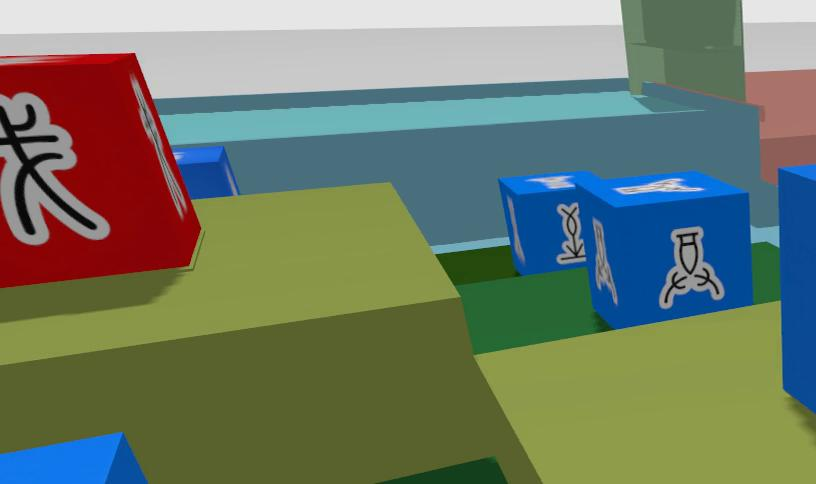KFS_FAKE: (2, 51, 206, 290), (0, 93, 109, 245), (130, 74, 189, 215)
KFS_REAL: (576, 170, 756, 331), (775, 164, 816, 415), (500, 171, 594, 275), (0, 432, 149, 484), (659, 228, 723, 308), (172, 142, 241, 200), (593, 218, 617, 304), (614, 176, 703, 194)
